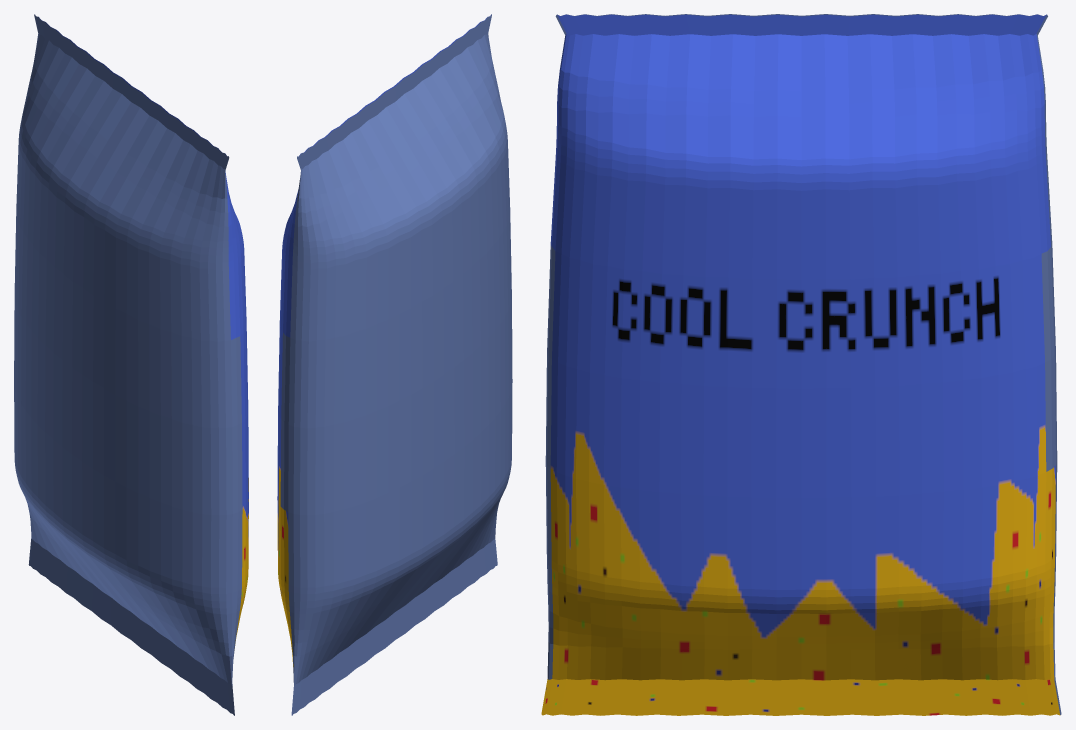
File: Cool Crunch Chips.fbx
The picture shows the model from 3 angles, left to right: view 1: azimuth 30°, elevation 25°; view 2: azimuth 150°, elevation 25°; view 3: azimuth 270°, elevation 25°; orthographic projection. The views are drawn at different scales.
Parts seen in each view (by area): view 1: Sphere; view 2: Sphere; view 3: Sphere.
Boxes of the visible parts, x1,y1,x2,y2 form: Sphere: (14,14,248,715); Sphere: (277,14,512,715); Sphere: (541,14,1061,715).
Bounding box in the file's own units: 297 × 1324 × 891.
